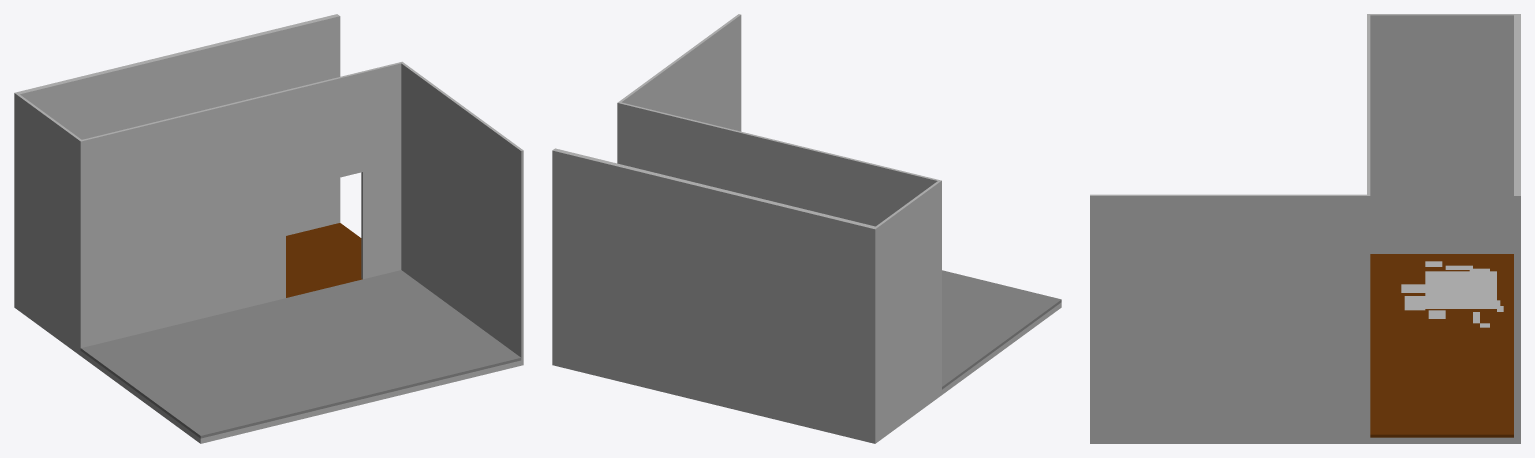
The model's file is 4x2 second (2)-4.obj.
3 views of the same model, side by side, from view 1: azimuth 30°, elevation 25°; view 2: azimuth 150°, elevation 25°; view 3: azimuth 270°, elevation 25° (orthographic). The views are drawn at different scales.
Visible parts, largest first — view 1: 4x2 second (2)-4; view 2: 4x2 second (2)-4; view 3: 4x2 second (2)-4.
Part boxes in pixels (x1,y1,x2,y2): 4x2 second (2)-4: [14, 14, 523, 443]; 4x2 second (2)-4: [552, 14, 1061, 443]; 4x2 second (2)-4: [1090, 14, 1520, 443].
Size of the model in its own units: 126 by 80 by 126.
Materials: 1 (1 with a texture image).
